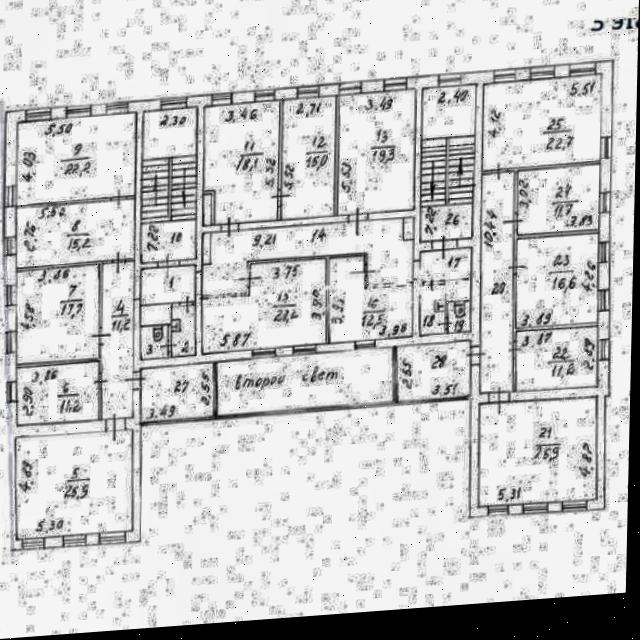room: (198, 218, 418, 297), (9, 429, 141, 541), (471, 396, 605, 506), (196, 259, 333, 354), (476, 74, 610, 171), (213, 348, 397, 417), (10, 113, 143, 206), (202, 100, 280, 227), (338, 90, 415, 216), (140, 108, 200, 265), (11, 198, 140, 269), (420, 84, 476, 242), (516, 232, 599, 330), (17, 266, 99, 365), (480, 172, 514, 394), (329, 257, 412, 344), (281, 96, 336, 221), (513, 166, 604, 235), (511, 327, 602, 392), (13, 363, 103, 426), (102, 262, 134, 420), (393, 341, 475, 402), (137, 364, 218, 424), (139, 267, 198, 305), (418, 249, 473, 281), (171, 306, 196, 358), (419, 285, 445, 335), (141, 325, 168, 360), (447, 300, 471, 334), (203, 195, 213, 227)
